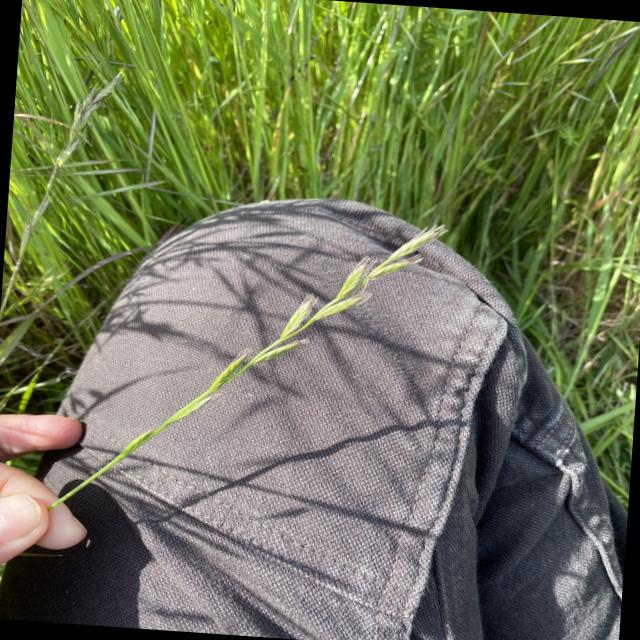Lolium: (38, 192, 452, 543), (0, 61, 124, 323)
